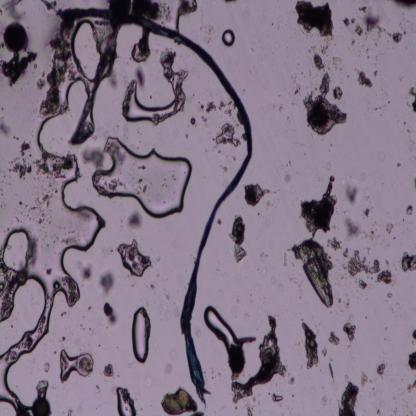Air bubble: (93, 132, 193, 221), (28, 185, 106, 298), (0, 268, 61, 407), (34, 74, 83, 176), (122, 51, 186, 128), (73, 14, 106, 84), (203, 306, 239, 350), (4, 227, 31, 278), (58, 344, 94, 382), (118, 240, 152, 279), (132, 305, 150, 365), (114, 382, 138, 416), (215, 123, 238, 148), (222, 29, 236, 49)
Background material: (230, 312, 288, 404), (35, 0, 76, 120), (303, 74, 348, 137), (298, 174, 335, 240), (295, 0, 337, 46), (1, 45, 37, 86), (228, 212, 253, 266), (163, 384, 205, 416), (8, 134, 37, 178), (0, 263, 22, 319), (230, 333, 256, 379), (35, 148, 73, 178), (108, 0, 132, 46), (349, 249, 382, 278), (335, 380, 361, 416), (137, 0, 173, 23), (301, 320, 318, 368), (174, 0, 200, 30), (33, 377, 52, 416), (244, 182, 270, 208), (132, 28, 152, 60), (80, 147, 108, 168), (342, 215, 365, 239), (363, 10, 384, 35), (2, 0, 27, 20), (340, 177, 358, 204), (100, 302, 118, 328), (199, 20, 217, 44), (374, 26, 395, 46), (107, 143, 126, 164), (123, 209, 145, 227), (101, 272, 116, 298), (400, 252, 416, 273), (404, 85, 416, 112), (358, 68, 374, 88), (289, 74, 302, 98), (330, 52, 346, 71), (314, 53, 330, 72), (365, 225, 381, 243), (406, 347, 416, 374), (378, 269, 393, 287), (343, 324, 358, 342), (218, 100, 232, 116), (102, 362, 116, 378), (81, 265, 96, 279), (270, 390, 283, 406), (393, 0, 416, 9), (328, 329, 340, 346), (0, 118, 11, 135), (359, 370, 369, 388), (136, 180, 148, 195), (377, 361, 387, 377), (383, 220, 394, 234), (328, 238, 342, 249), (332, 87, 343, 100), (206, 98, 216, 112), (377, 150, 388, 162), (328, 363, 335, 381), (43, 361, 52, 375), (406, 380, 416, 392), (404, 203, 414, 214), (354, 27, 364, 38), (319, 346, 329, 357), (341, 248, 351, 259), (36, 80, 46, 91), (363, 207, 373, 217), (394, 33, 403, 44), (284, 173, 292, 185), (410, 327, 416, 341), (66, 404, 73, 416), (360, 280, 368, 290), (359, 4, 369, 12), (246, 406, 254, 416), (44, 264, 52, 274), (322, 395, 329, 406), (288, 377, 296, 386), (190, 117, 197, 127), (217, 215, 223, 226), (344, 18, 352, 26), (58, 309, 67, 316), (154, 254, 160, 264), (282, 252, 286, 266), (396, 160, 402, 168), (350, 17, 356, 24), (386, 292, 393, 298), (371, 70, 378, 76), (223, 166, 229, 172), (87, 305, 93, 311), (201, 117, 208, 122), (376, 408, 380, 416), (200, 102, 204, 110), (413, 178, 416, 188), (150, 283, 154, 288), (62, 336, 66, 340)
Cotton: (127, 17, 254, 403)
Diatom: (291, 240, 335, 311), (3, 22, 30, 54)
